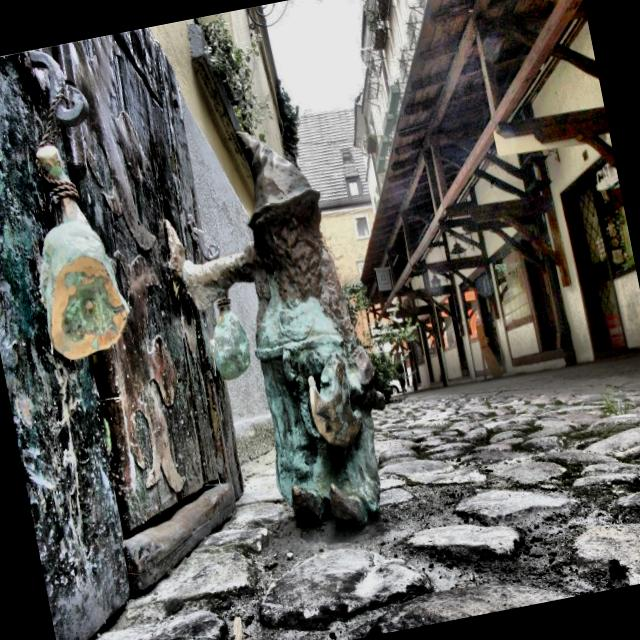Rzeznik: (167, 133, 385, 524)
